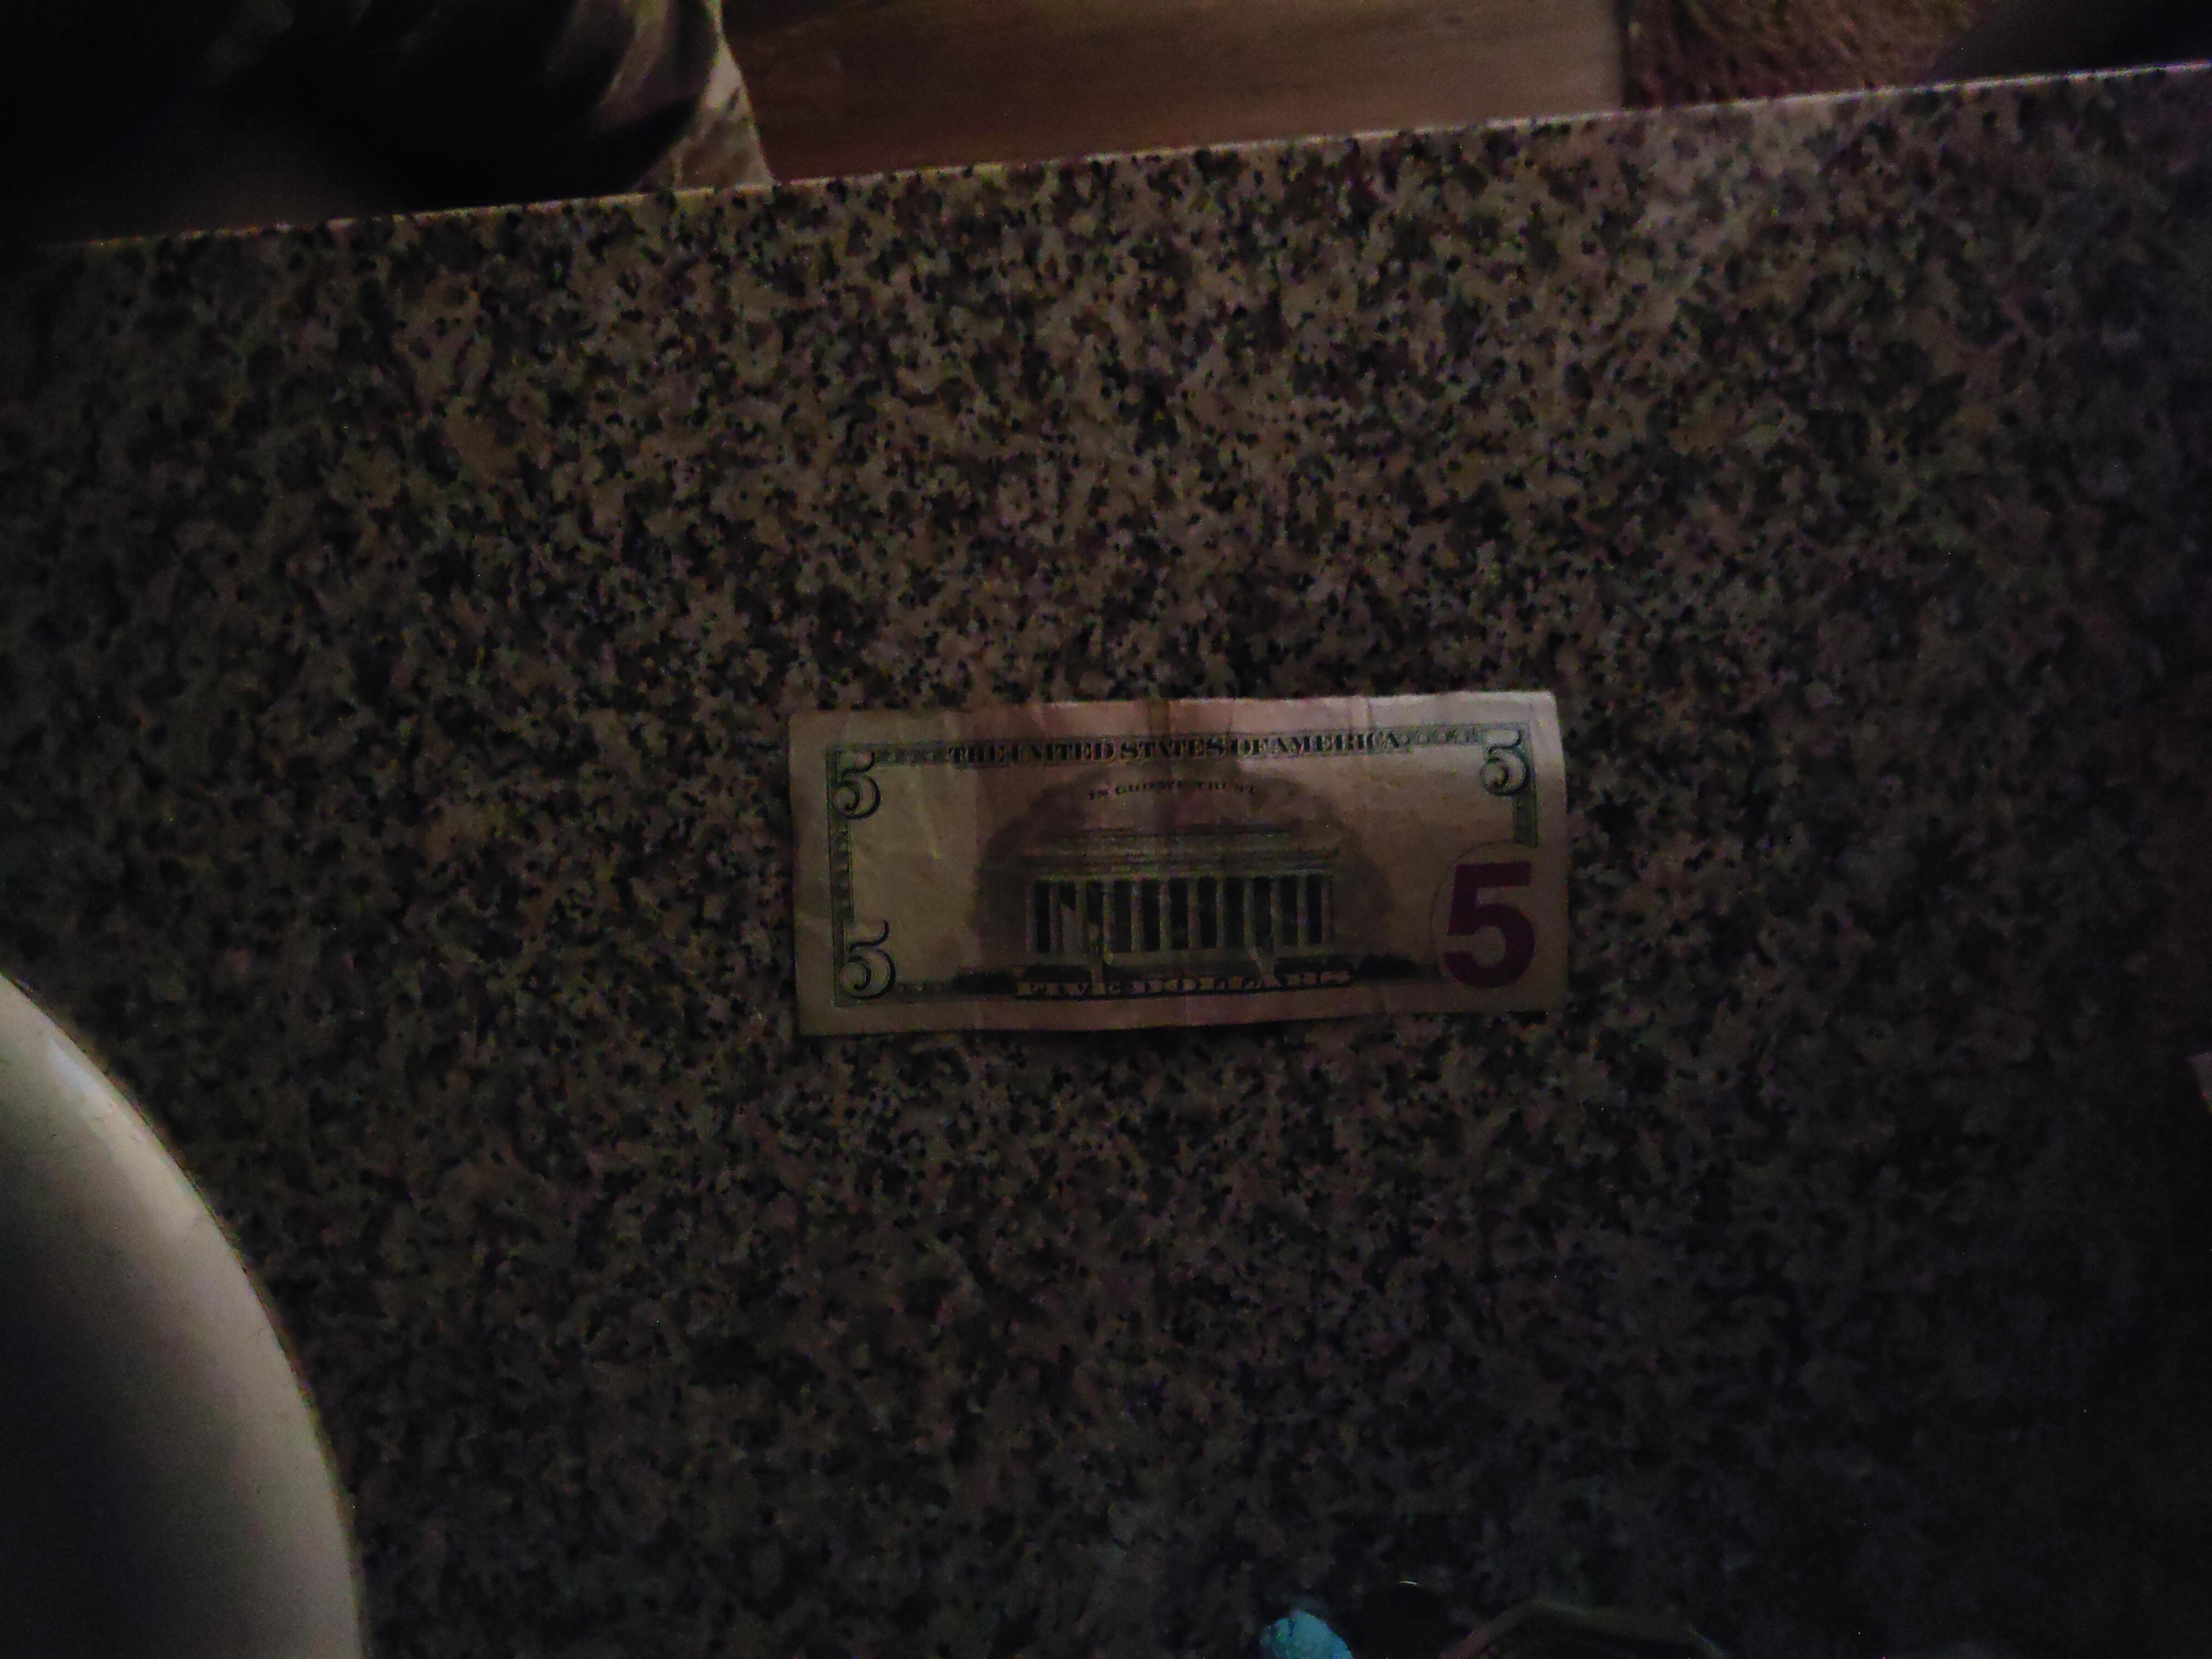FiveBill: (786, 688, 1578, 1039)
